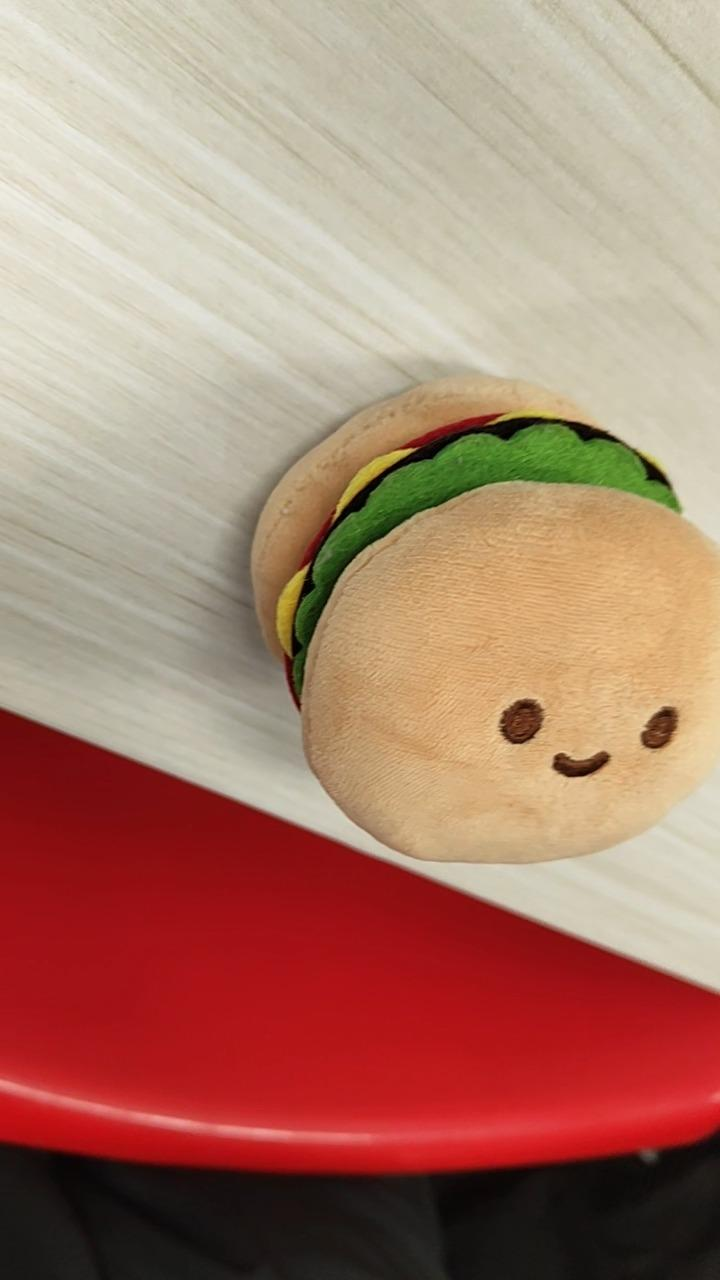hamburger: (248, 370, 718, 866)
